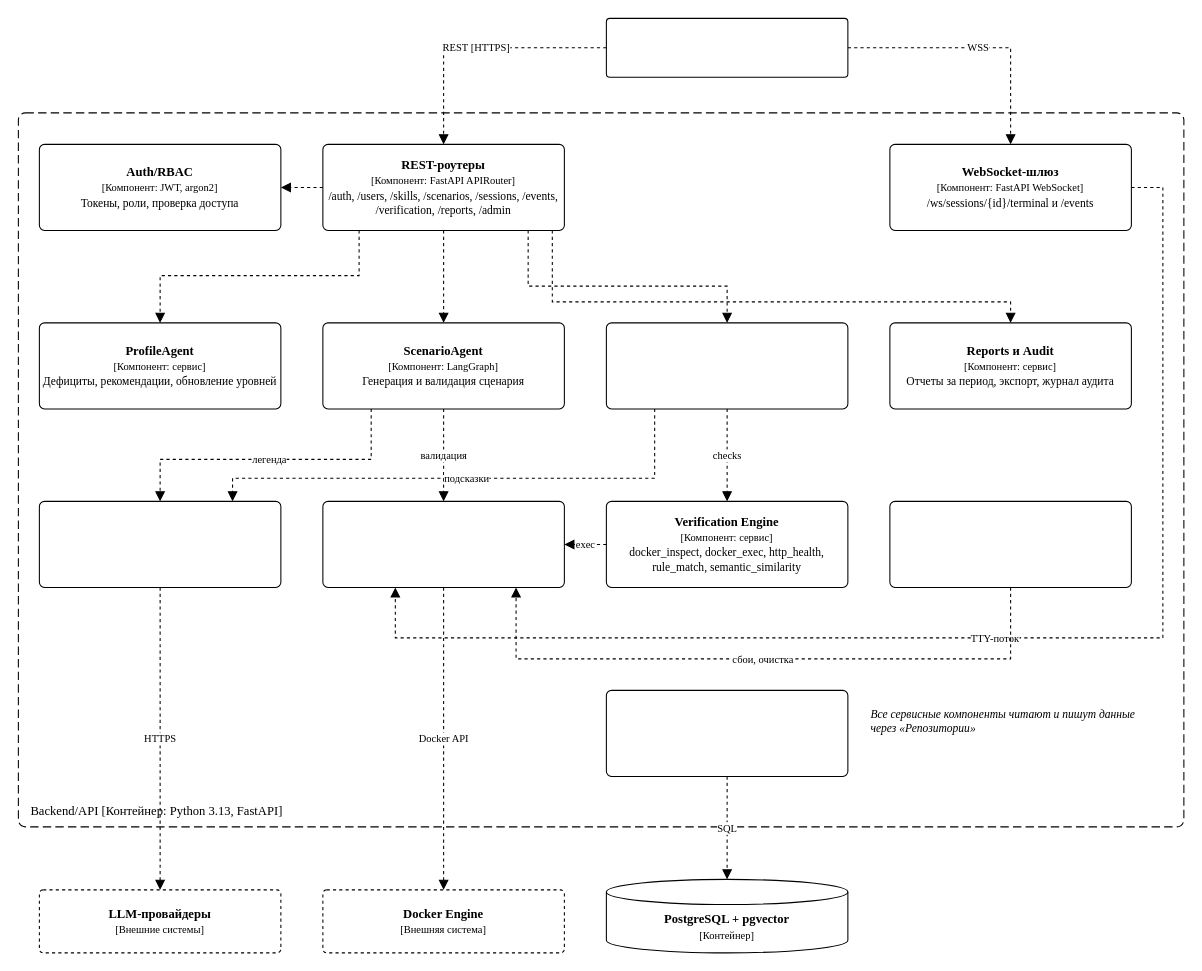
Image size: 1202x971. Some labels were removed from this diagram. The box of each missing label's shape, as (x1, y1, x2, y2) in pixels:
AssessmentAgent [Компонент: LangGraph] Подсказки, проверка, балл, отчет: (605, 322, 848, 409)
Frontend [Контейнер: React SPA]: (605, 17, 848, 77)
LLM Gateway [Компонент: клиент openai] external → local → template: (38, 500, 281, 587)
Sandbox Manager [Компонент: aiodocker] Создание, exec, пауза, очистка сред: (322, 500, 564, 587)
Worker [Компонент: asyncio] Инциденты, бездействие, очистка, сроки хранения: (889, 500, 1131, 587)
Репозитории [Компонент: SQLAlchemy 2 async] Доступ к таблицам PostgreSQL: (605, 689, 848, 776)
